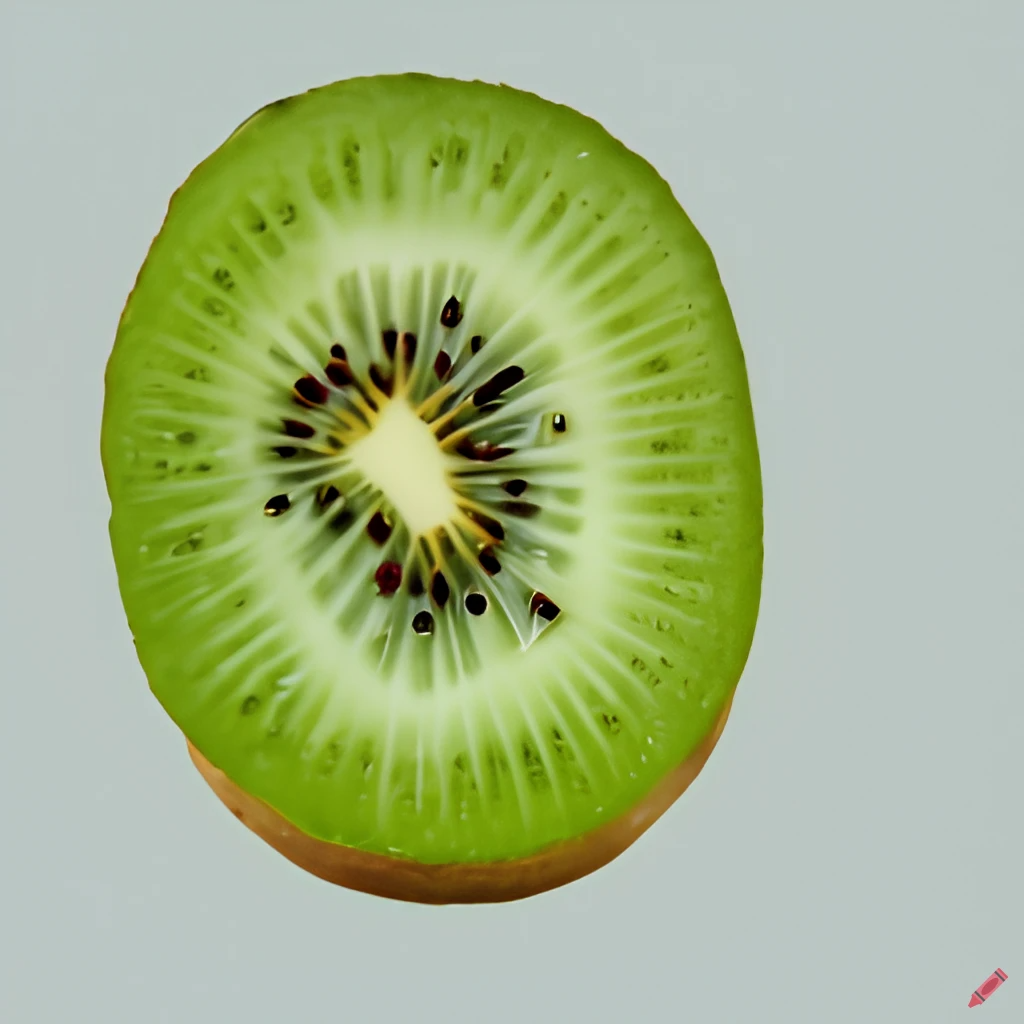Kiwi: (59, 43, 810, 970)
